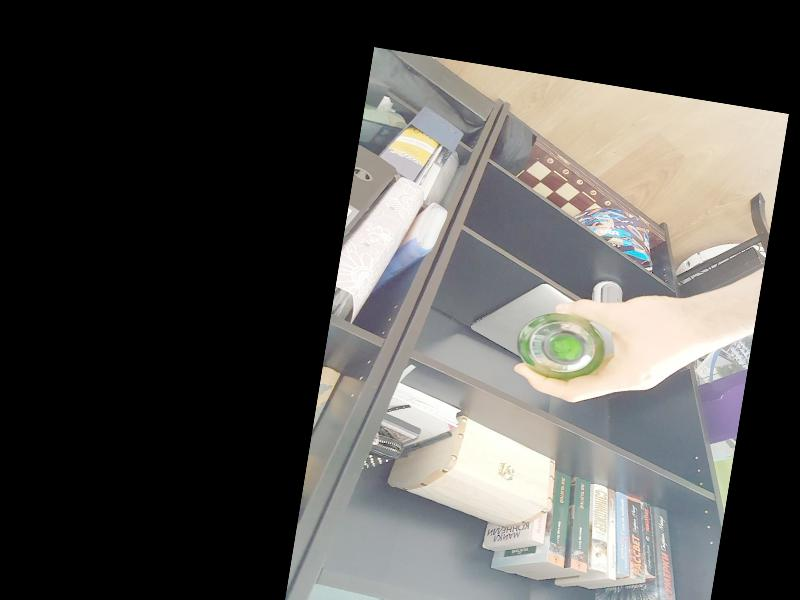Beer: (517, 306, 608, 385)
